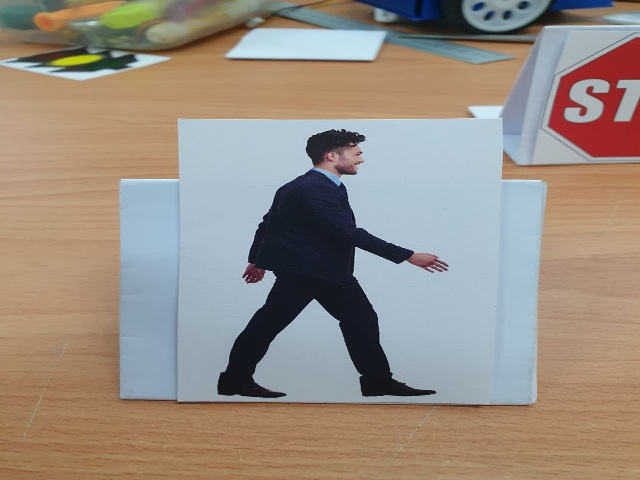Person: (178, 116, 458, 404)
